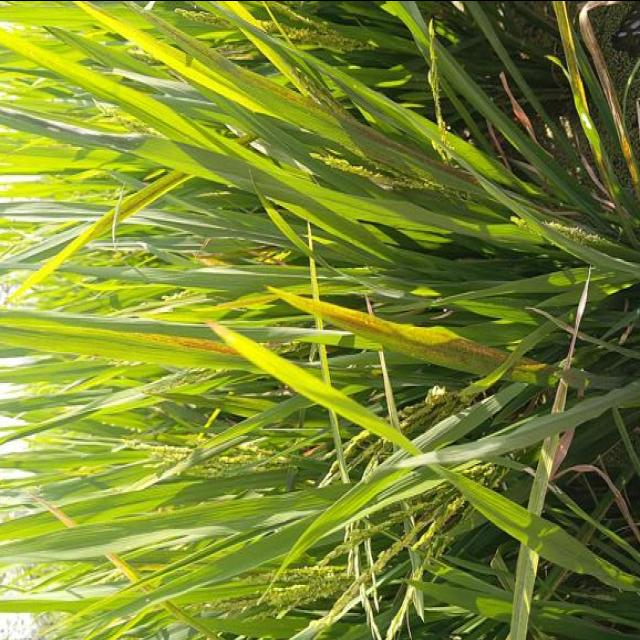Leaf Streak: (143, 12, 477, 181), (277, 289, 512, 370), (144, 336, 256, 367), (507, 355, 566, 386)
